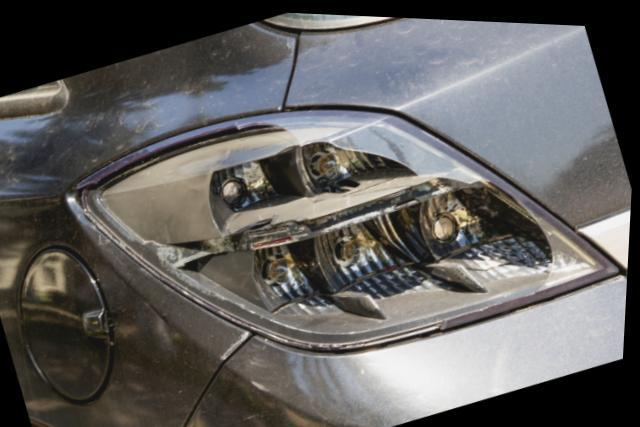lamp broken: (77, 104, 621, 347)
